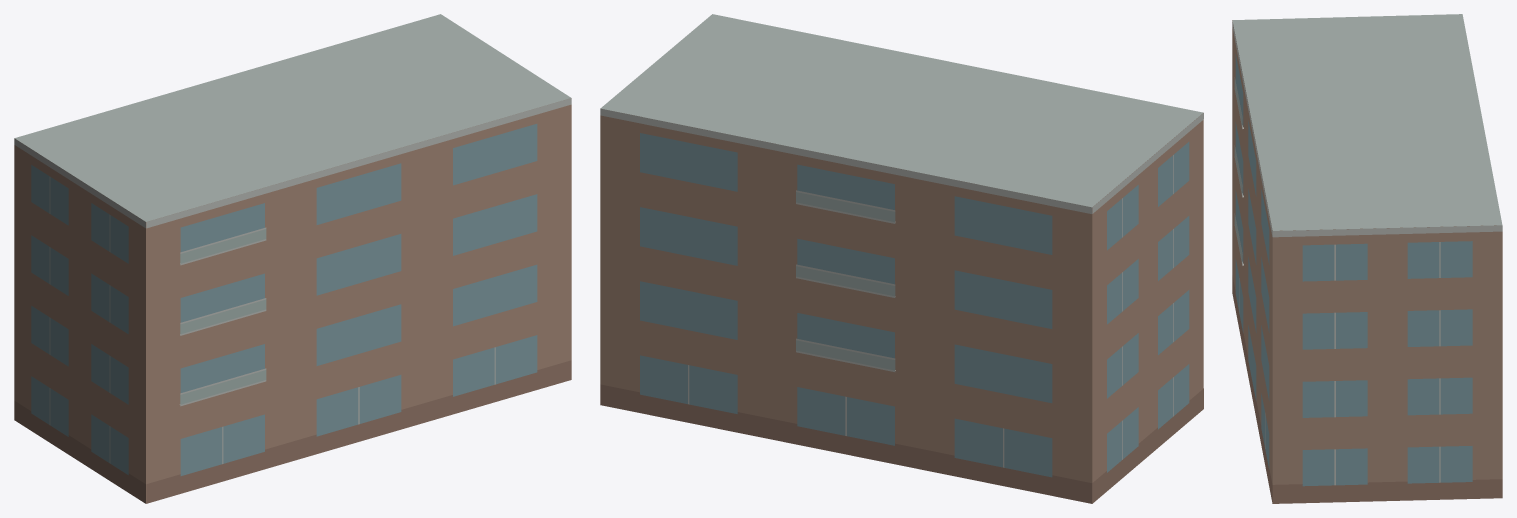
File: survey-upis-32756412.glb
The picture shows the model from 3 angles, left to right: view 1: azimuth 30°, elevation 25°; view 2: azimuth 150°, elevation 25°; view 3: azimuth 270°, elevation 25°; orthographic projection. The views are drawn at different scales.
Visible parts, largest first — view 1: survey-upis-32756412.tmp; view 2: survey-upis-32756412.tmp; view 3: survey-upis-32756412.tmp.
Part boxes in pixels (x1,y1,x2,y2): survey-upis-32756412.tmp: (14, 14, 571, 503); survey-upis-32756412.tmp: (600, 14, 1203, 503); survey-upis-32756412.tmp: (1232, 14, 1502, 503).
Size of the model in its own units: 17.91 by 10.5 by 9.43.
